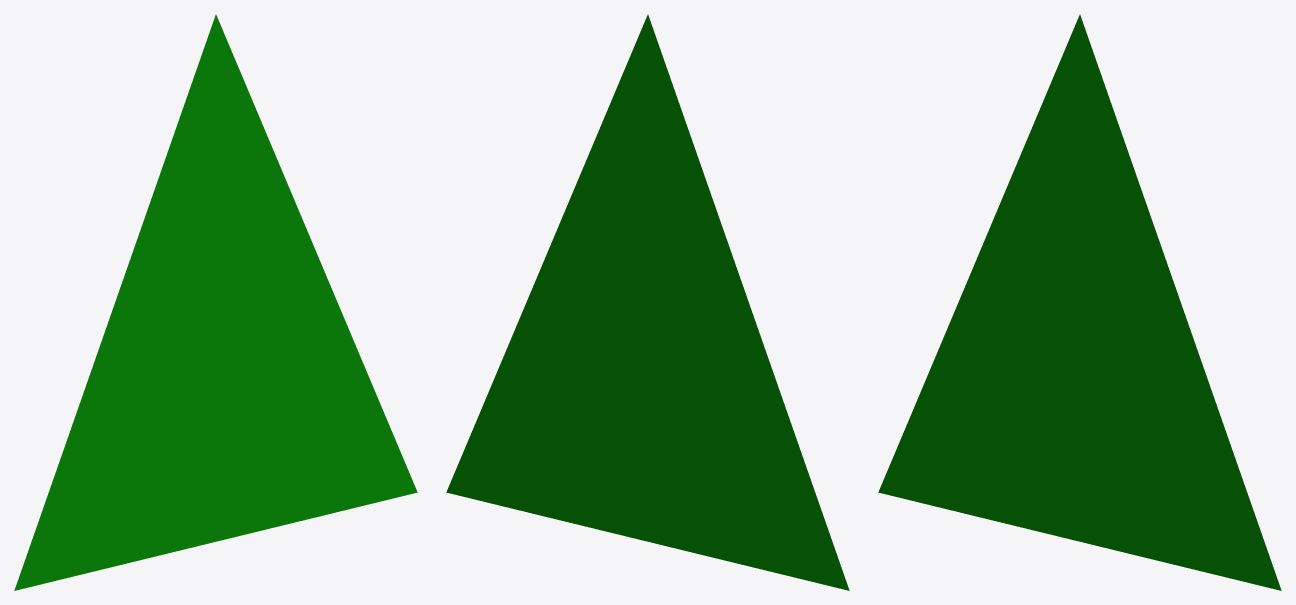
The model's file is vertex_colors.gltf.
The picture shows the model from 3 angles, left to right: view 1: azimuth 30°, elevation 25°; view 2: azimuth 150°, elevation 25°; view 3: azimuth 330°, elevation 25°; orthographic projection.
Size of the model in its own units: 2 by 2.5 by 0.
